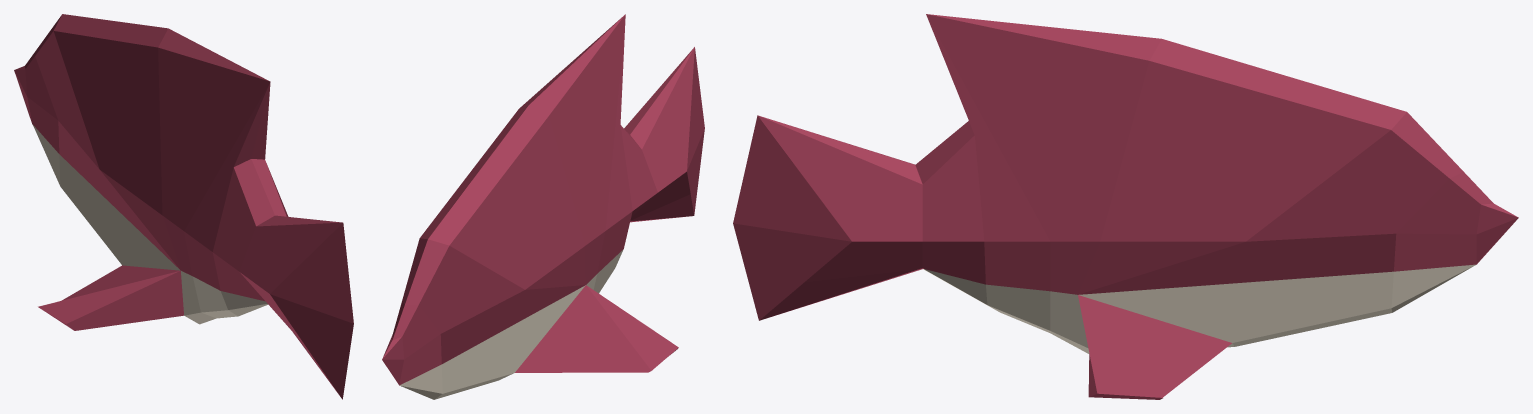
The model's file is Red Fish.fbx.
The picture shows the model from 3 angles, left to right: view 1: azimuth 30°, elevation 25°; view 2: azimuth 150°, elevation 25°; view 3: azimuth 270°, elevation 25°; orthographic projection. The views are drawn at different scales.
Visible parts, largest first — view 1: pCube1, pCube2; view 2: pCube1, pCube2; view 3: pCube2.
Part boxes in pixels (<box>): pCube1: <box>14,14,353,399</box>; pCube2: <box>21,83,335,390</box>; pCube1: <box>382,14,704,399</box>; pCube2: <box>382,17,693,387</box>; pCube2: <box>733,14,1518,399</box>.
Size of the model in its own units: 1.2 by 1.3 by 2.71.
